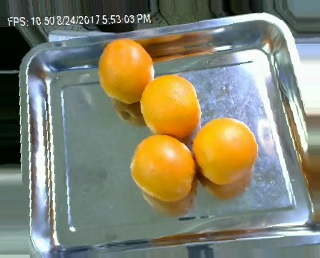Orange: (192, 116, 259, 185), (130, 134, 196, 201), (141, 75, 200, 141), (98, 37, 154, 104)
